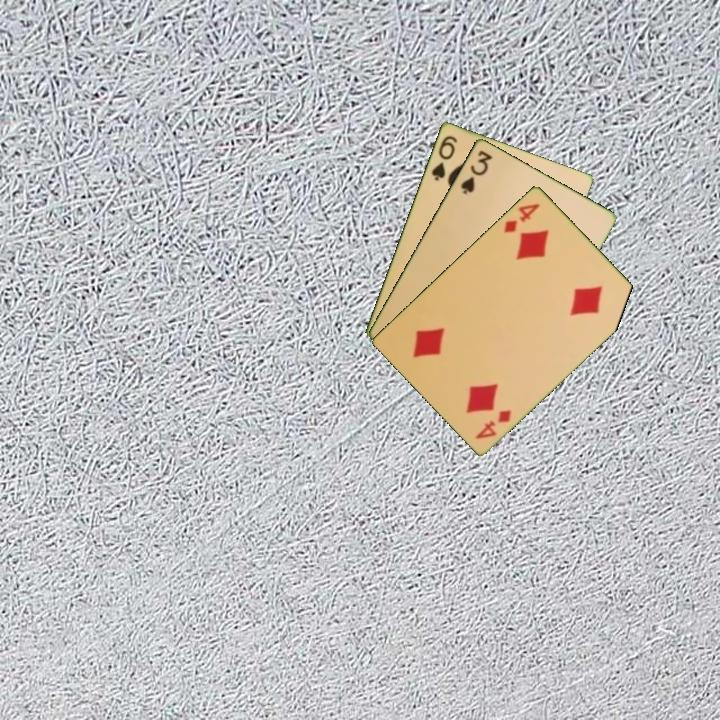3s: (457, 146, 495, 197)
4d: (500, 199, 542, 236), (472, 406, 514, 442)
6s: (428, 132, 460, 184)
